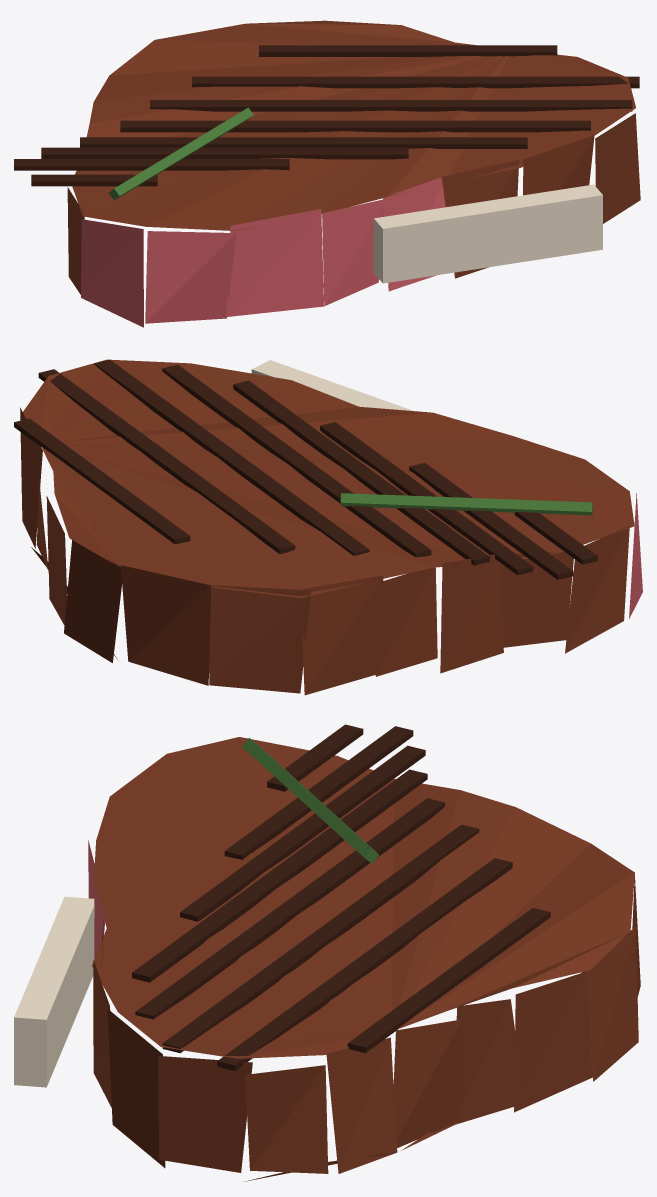
The model's file is food_steak.glb.
The picture shows the model from 3 angles, top to bottom: view 1: azimuth 30°, elevation 25°; view 2: azimuth 150°, elevation 25°; view 3: azimuth 270°, elevation 25°; orthographic projection. The views are drawn at different scales.
Visible parts, largest first — view 1: food_steak; view 2: food_steak; view 3: food_steak.
Boxes of the visible parts, <box> form: food_steak: <box>14,20,640,327</box>; food_steak: <box>14,359,642,695</box>; food_steak: <box>14,724,640,1181</box>.
Size of the model in its own units: 0.1945 by 0.037 by 0.1516.
